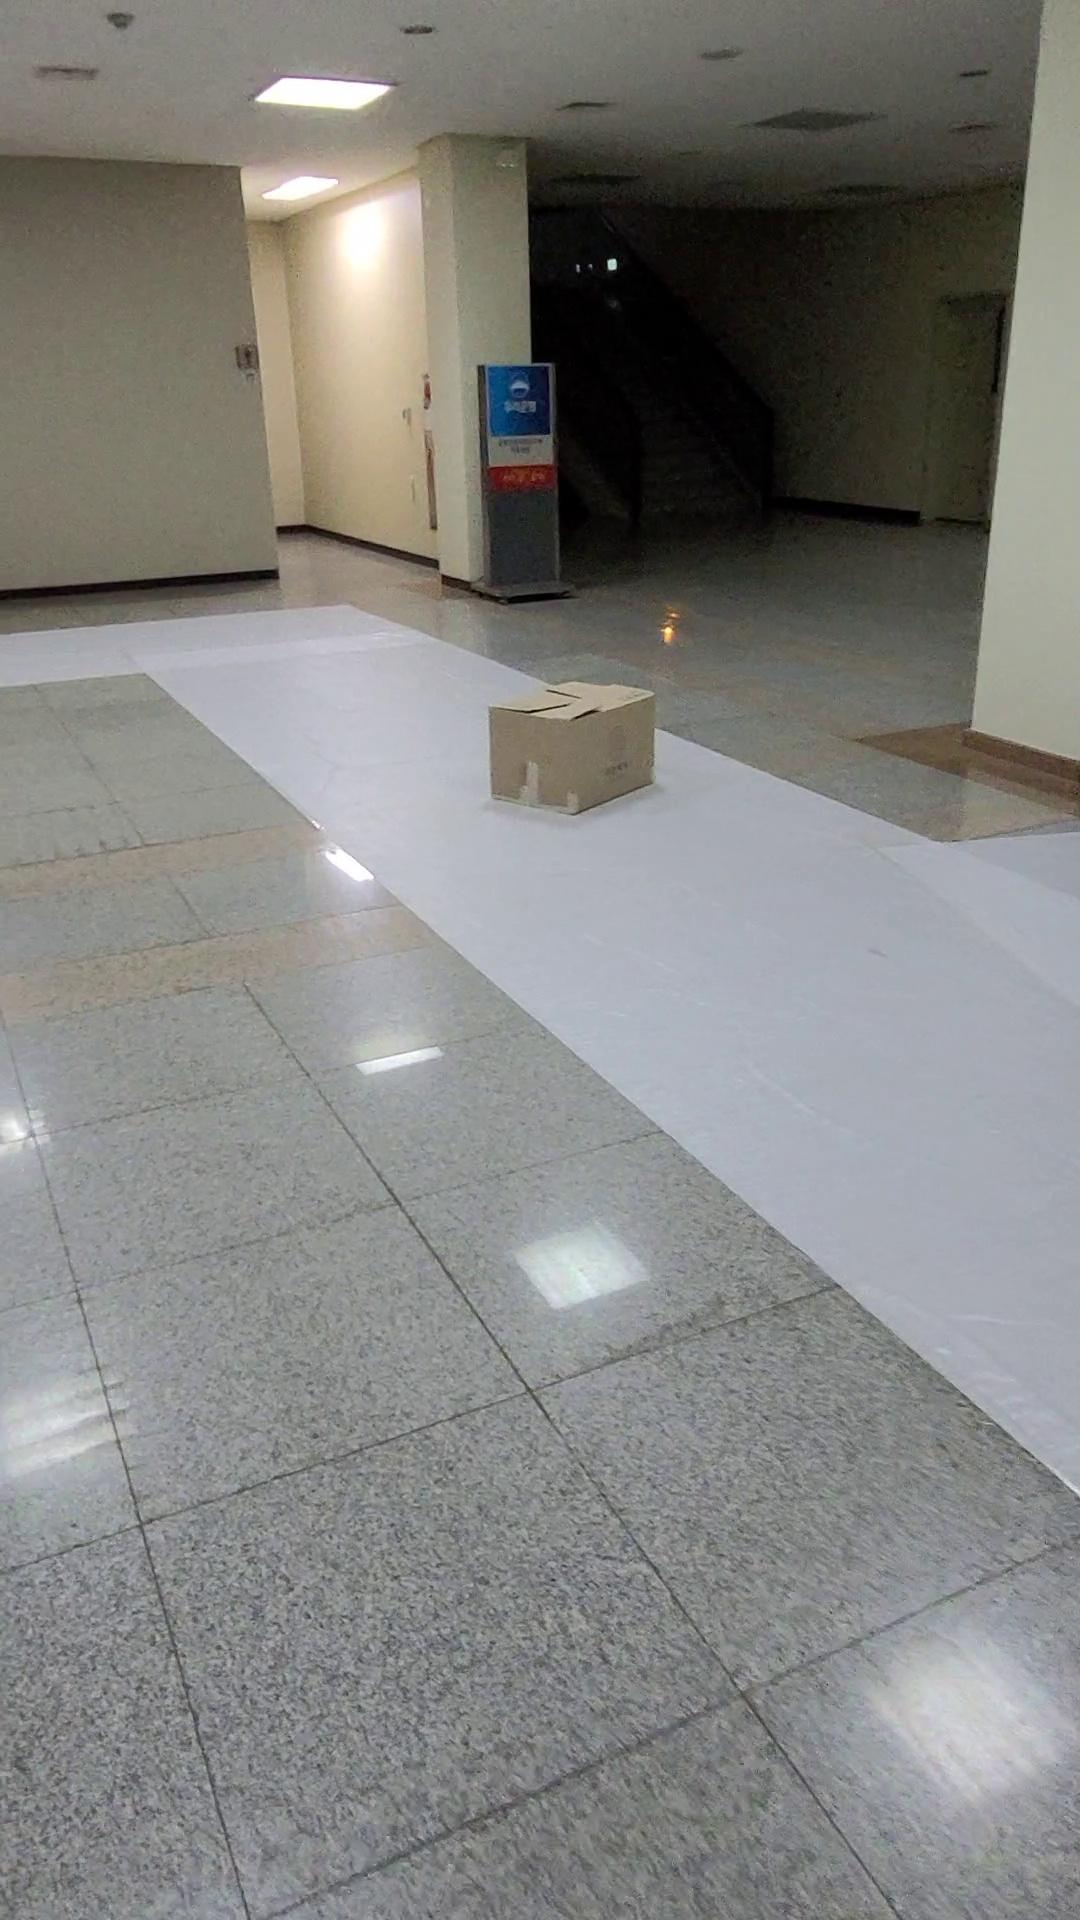Box: (454, 670, 712, 840)
